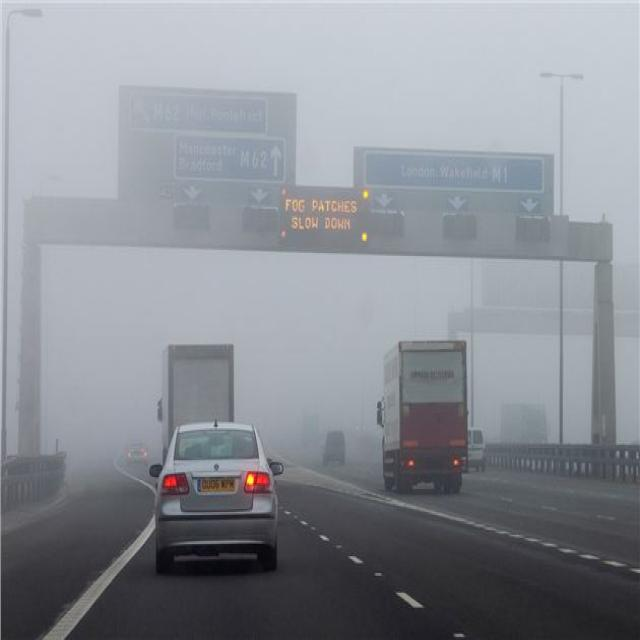no-low traffic: (94, 265, 539, 640)
